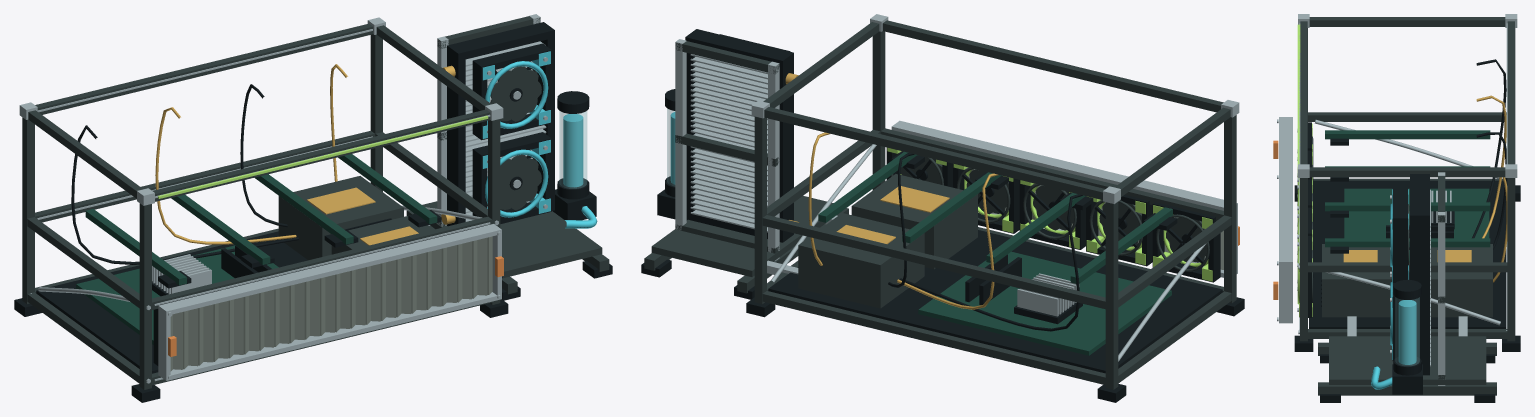
File: rig-gameplay-pleated-liquid.glb
3 views of the same model, side by side, from view 1: azimuth 30°, elevation 25°; view 2: azimuth 150°, elevation 25°; view 3: azimuth 270°, elevation 25° (orthographic). The views are drawn at different scales.
Visible parts, largest first — view 1: Anodized graphite (×4), Rubber and ABS (×5), Filter fibres, Brushed aluminium (×3), Circuit board, Coolant blue (×3), cooling-liquid, Contacts, rig-gameplay-pleated-liquid, slot-cable-1, slot-cable-2, slot-cable-3; view 2: Anodized graphite (×6), Rubber and ABS (×7), Brushed aluminium (×3), Circuit board, Contacts, Lime accents (×2), slot-cable-1, slot-cable-2, cooling-liquid; view 3: Anodized graphite (×2), Rubber and ABS (×6), Circuit board, Brushed aluminium (×3), Coolant blue (×2), cooling-liquid, Contacts, slot-cable-1, slot-cable-2, rig-gameplay-pleated-liquid, slot-cable-3, slot-cable-4.
Part boxes in pixels (x1,y1,x2,y2): Anodized graphite (×4): (22,16,609,389); Rubber and ABS (×5): (14,22,612,402); Filter fibres: (170,236,492,371); Brushed aluminium (×3): (19,14,546,383); Circuit board: (76,154,437,344); Coolant blue (×3): (482,51,597,228); cooling-liquid: (559,111,586,188); Contacts: (307,187,418,245); rig-gameplay-pleated-liquid: (158,115,488,198); slot-cable-1: (71,125,298,264); slot-cable-2: (155,107,296,244); slot-cable-3: (240,84,287,227); Anodized graphite (×6): (644,20,1236,389); Rubber and ABS (×7): (641,29,1244,402); Brushed aluminium (×3): (675,14,1239,361); Circuit board: (818,151,1172,355); Contacts: (836,186,949,244); Lime accents (×2): (1086,196,1212,281); slot-cable-1: (899,194,1082,331); slot-cable-2: (897,173,998,309); cooling-liquid: (667,108,674,186); Anodized graphite (×2): (1300,17,1515,395); Rubber and ABS (×6): (1294,138,1520,402); Circuit board: (1325,130,1490,262); Brushed aluminium (×3): (1279,14,1517,385); Coolant blue (×2): (1371,189,1416,389); cooling-liquid: (1395,297,1419,365); Contacts: (1343,250,1471,262); slot-cable-1: (1472,59,1506,238); slot-cable-2: (1476,95,1506,238); rig-gameplay-pleated-liquid: (1297,24,1300,168); slot-cable-3: (1476,132,1507,249); slot-cable-4: (1493,177,1507,282).
Bounding box in the file's own units: 8.43 × 3.32 × 4.01.
